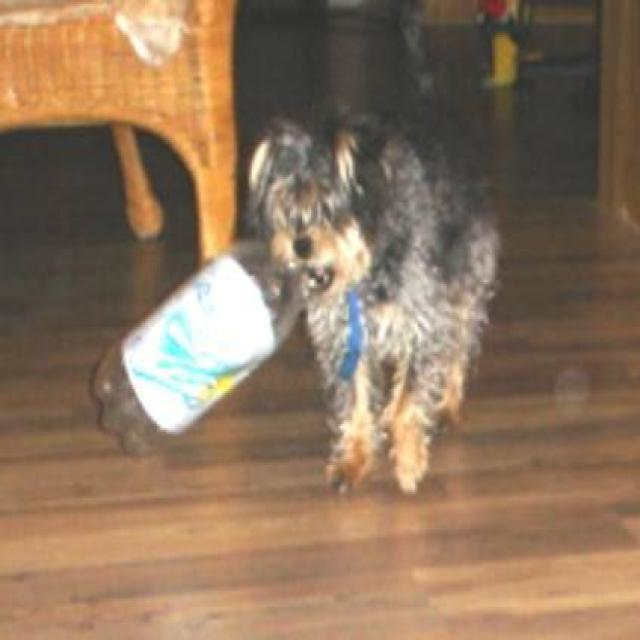cat: (226, 79, 519, 509)
